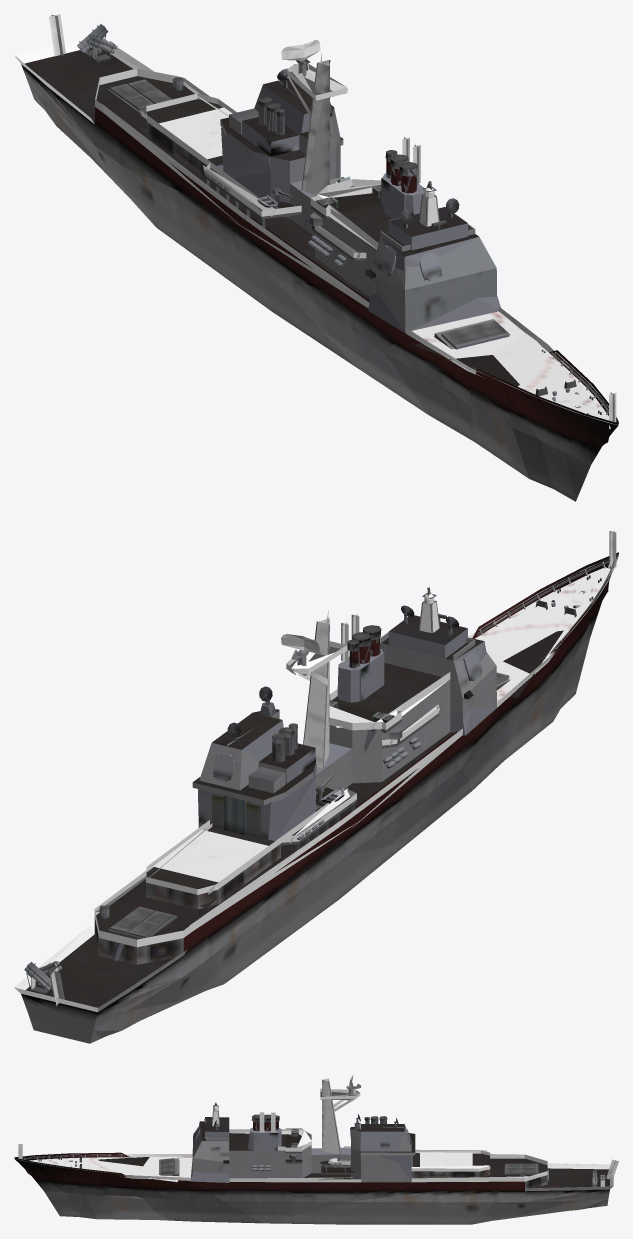
3 views of the same model, one above another, from view 1: azimuth 30°, elevation 25°; view 2: azimuth 150°, elevation 25°; view 3: azimuth 270°, elevation 25° (orthographic). The views are drawn at different scales.
Visible parts, largest first — view 1: CG47; view 2: CG47; view 3: CG47.
Part boxes in pixels (<box>): CG47: <box>14,14,618,501</box>; CG47: <box>14,530,618,1043</box>; CG47: <box>14,1075,618,1224</box>.
Bounding box in the file's own units: 20.02 × 45.59 × 175.
Materials: 1 (1 with a texture image).
